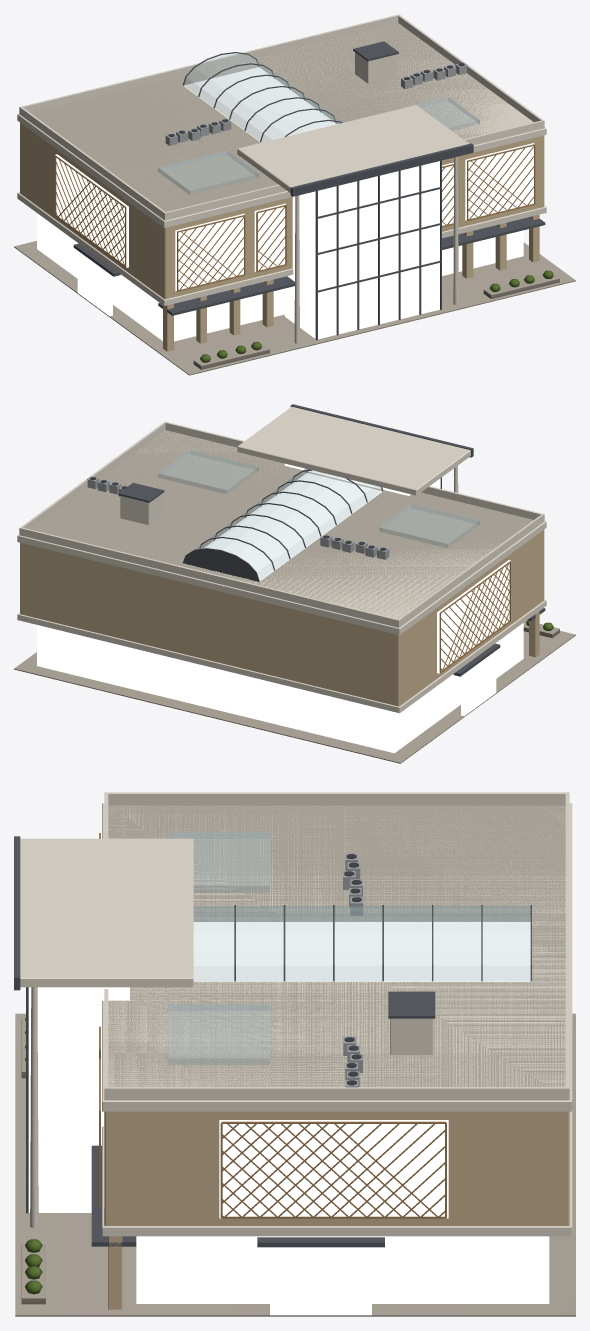
Rendered from mall.glb.
3 views of the same model, one above another, from view 1: azimuth 30°, elevation 25°; view 2: azimuth 150°, elevation 25°; view 3: azimuth 270°, elevation 25° (orthographic). The views are drawn at different scales.
Visible parts, largest first — view 1: mall_v0; view 2: mall_v0; view 3: mall_v0.
Boxes of the visible parts, left/top/right/bottom form: mall_v0: left=14, top=14, right=575, bottom=375; mall_v0: left=14, top=404, right=575, bottom=763; mall_v0: left=14, top=792, right=575, bottom=1316.
Bounding box in the file's own units: 56 × 22.4 × 44.1.
